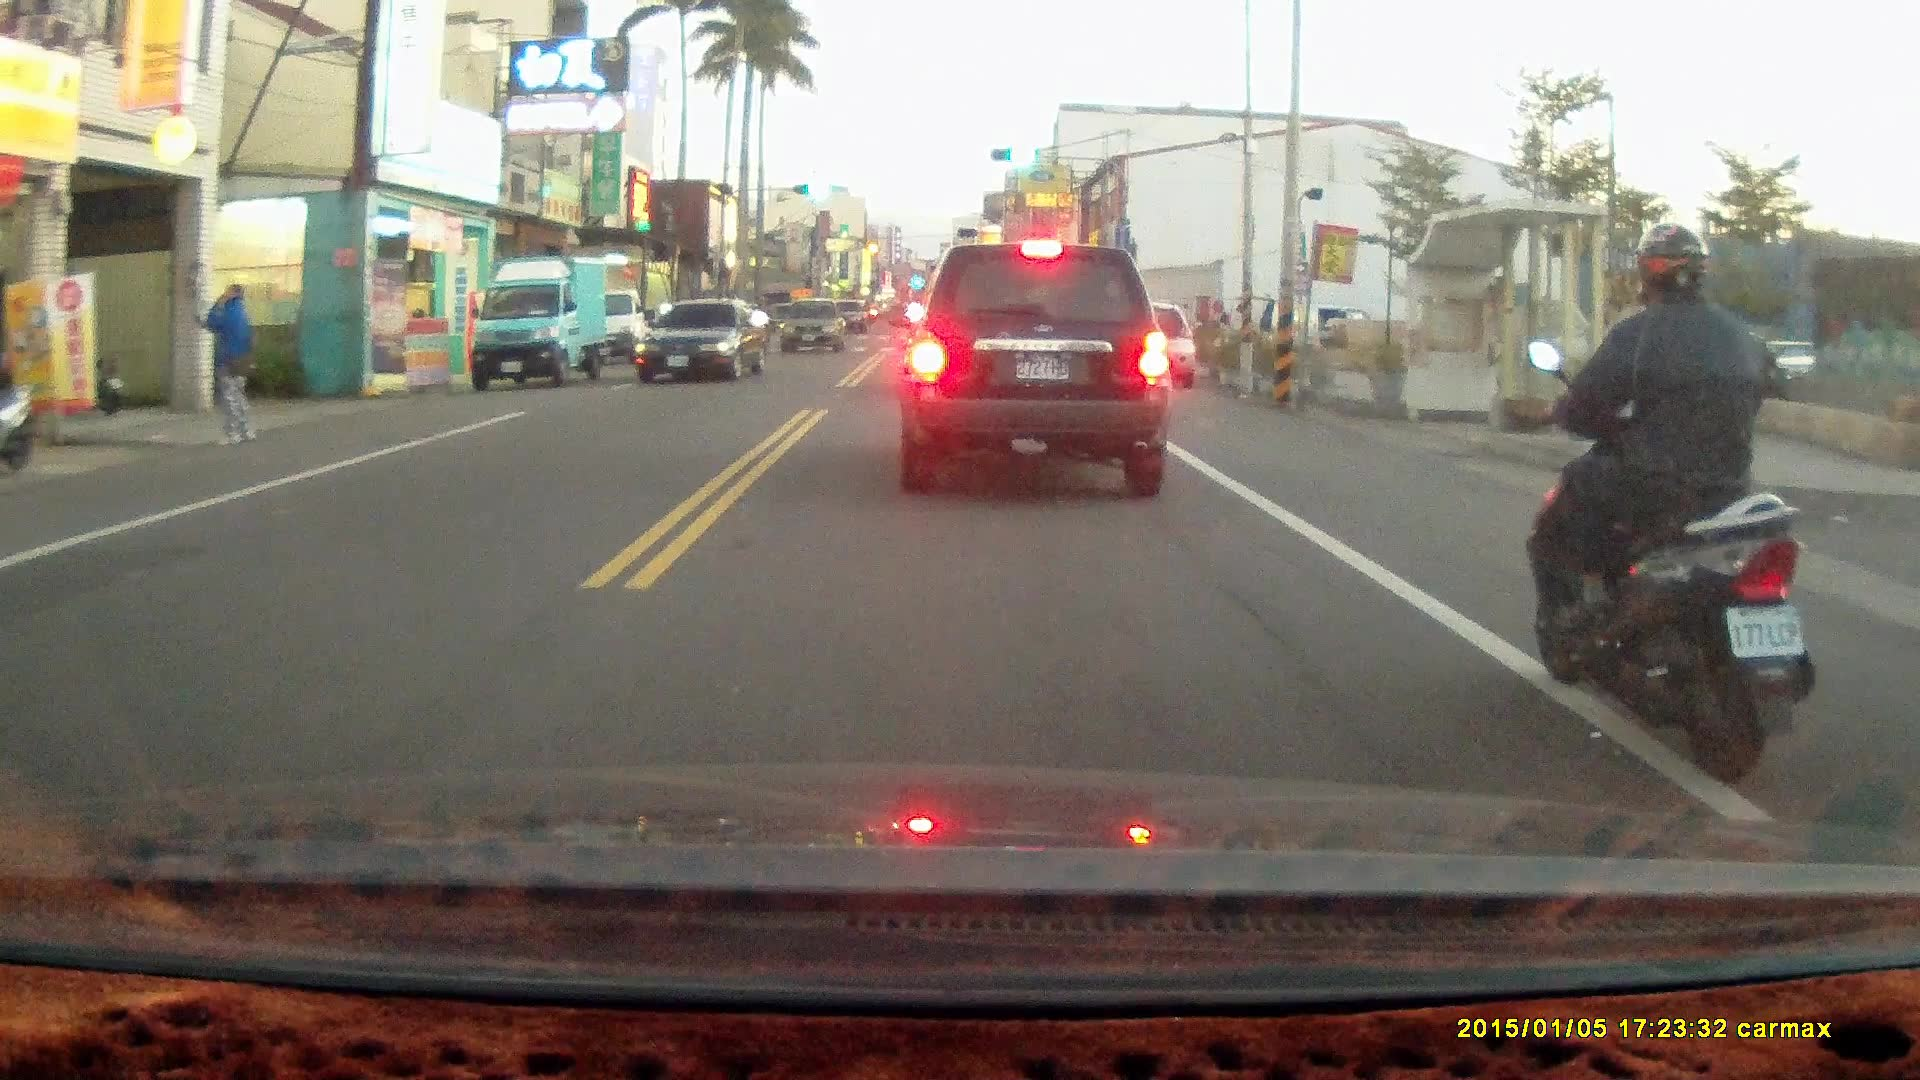pedestrian: (198, 280, 259, 448)
rider: (1525, 215, 1817, 786)
vehicle: (895, 239, 1176, 500), (467, 257, 608, 398), (633, 299, 774, 384), (778, 298, 848, 356)
